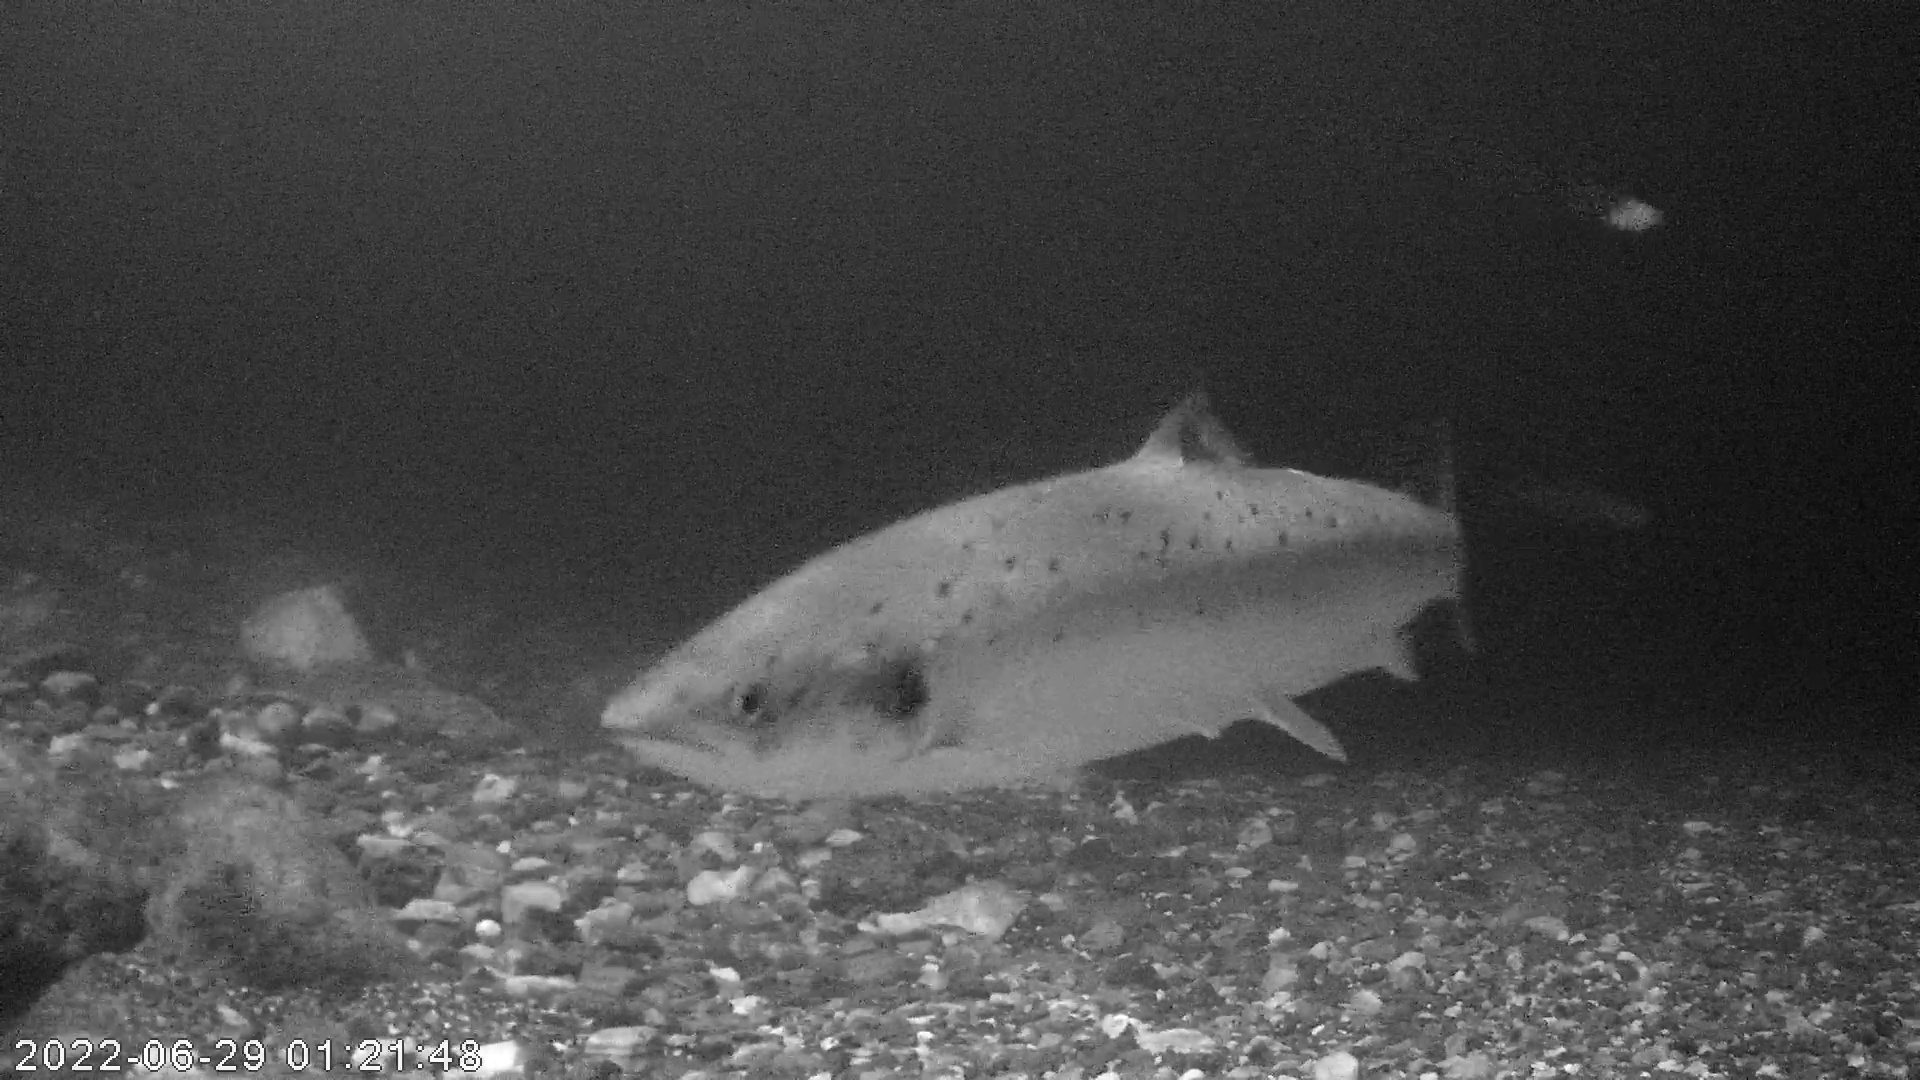salmon: (611, 377, 1466, 802)
